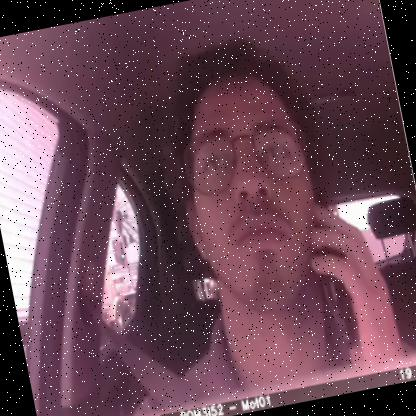phone: (296, 187, 374, 361)
